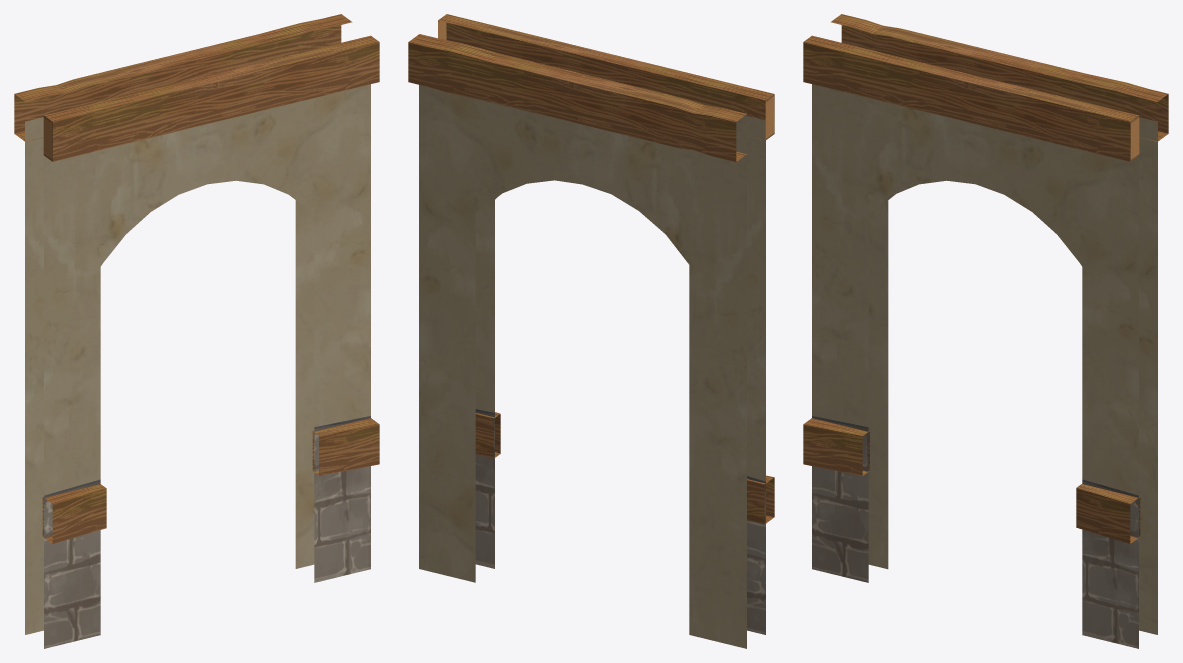
File: Wall_Plaster_Door_Round.glb
The picture shows the model from 3 angles, left to right: view 1: azimuth 30°, elevation 25°; view 2: azimuth 150°, elevation 25°; view 3: azimuth 330°, elevation 25°; orthographic projection.
Visible parts, largest first — view 1: Wall_Plaster_Door_Round; view 2: Wall_Plaster_Door_Round; view 3: Wall_Plaster_Door_Round.
Part boxes in pixels (box(x1,y1,x2,y2)): Wall_Plaster_Door_Round: box(14, 14, 379, 648); Wall_Plaster_Door_Round: box(408, 14, 774, 648); Wall_Plaster_Door_Round: box(803, 14, 1168, 648).
Size of the model in its own units: 2 by 3.12 by 0.4064.
Materials: 3 (3 with a texture image).
